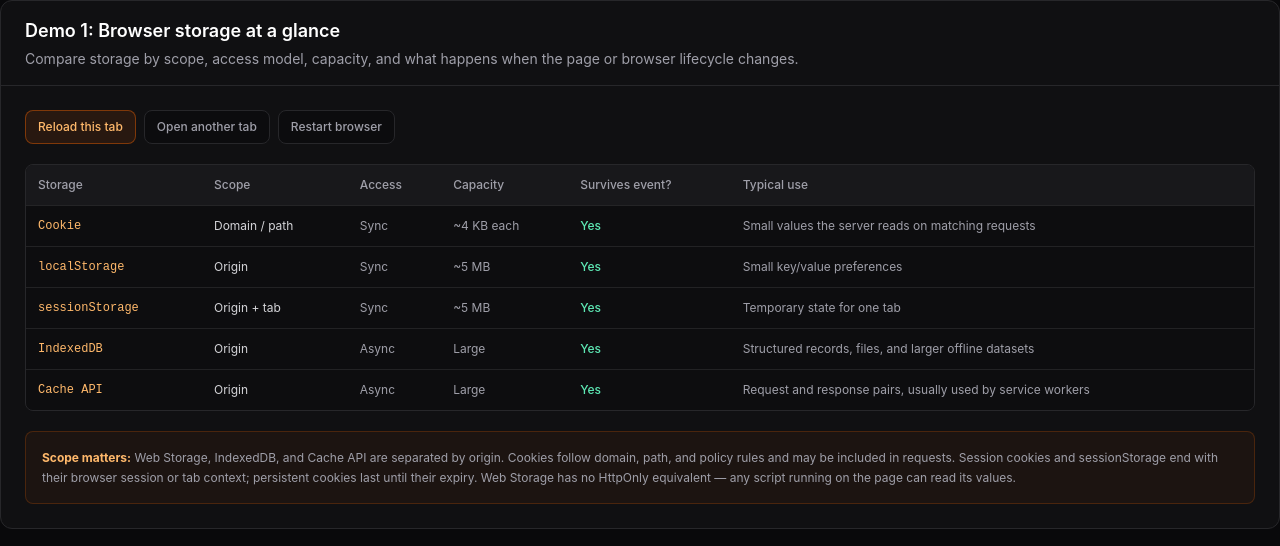
BrowserStorageDemo › shows cookie survival as dependent on expiry after a restart
Click the button "Restart browser" at (336, 127), box [278,110,395,144]
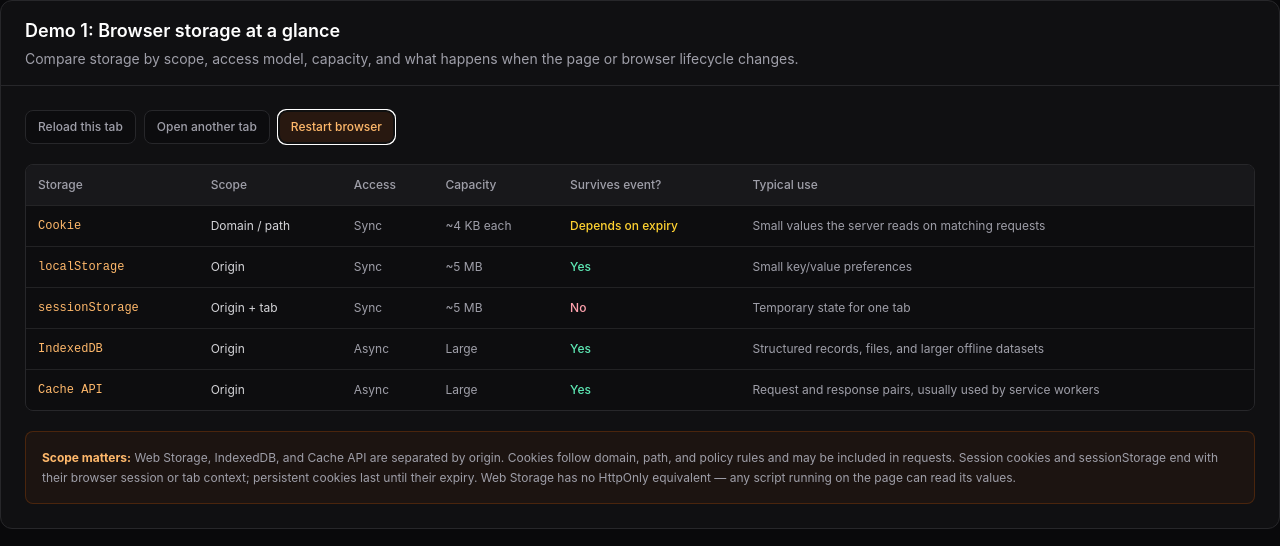
Result: the row that starts with "Cookie" shows "Depends on expiry" at [570,218,678,233]
